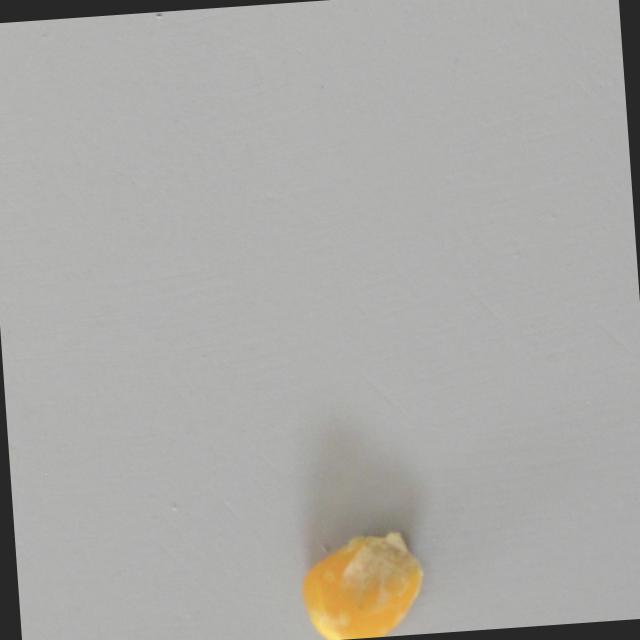dañado: (292, 519, 439, 640)
